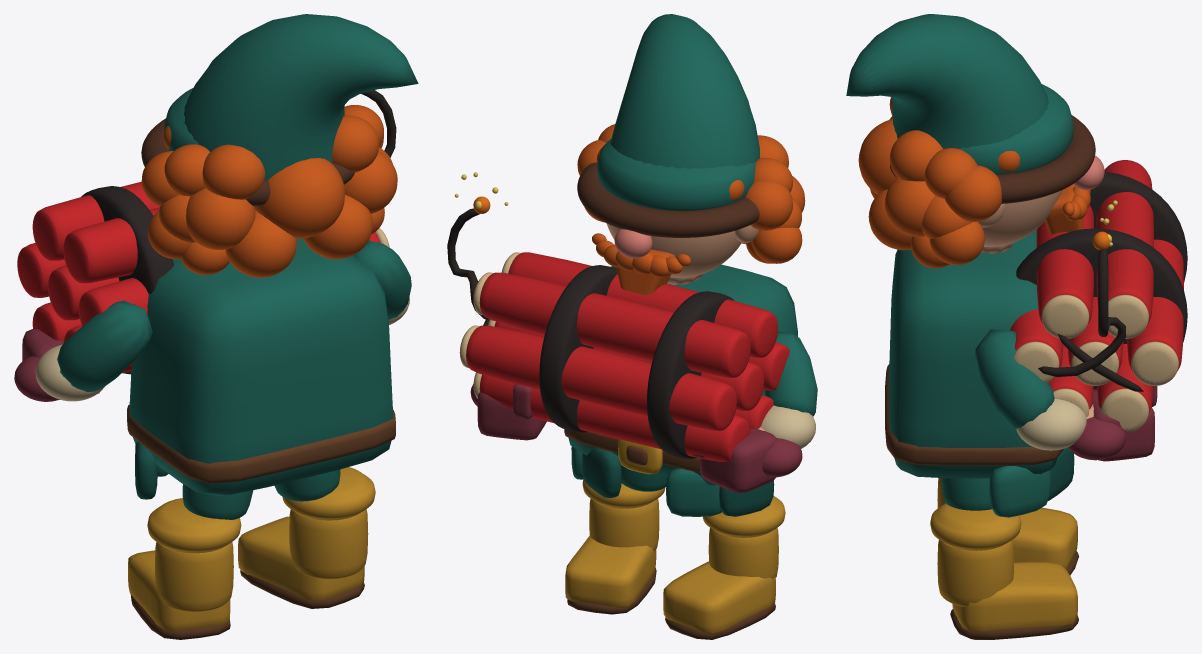
The model's file is bomber_detail.glb.
3 views of the same model, side by side, from view 1: azimuth 30°, elevation 25°; view 2: azimuth 150°, elevation 25°; view 3: azimuth 270°, elevation 25° (orthographic). The views are drawn at different scales.
Parts seen in each view (by area): view 1: Detail; view 2: Detail; view 3: Detail.
Part boxes in pixels (x1=…): Detail: x1=14, y1=14, x2=418, y2=639; Detail: x1=447, y1=14, x2=817, y2=639; Detail: x1=846, y1=14, x2=1187, y2=639.
Bounding box in the file's own units: 0.5515 × 0.8319 × 0.4355.
